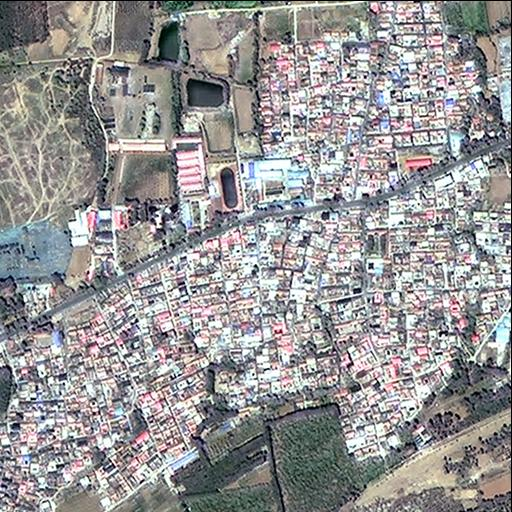school: (178, 159, 246, 233)
